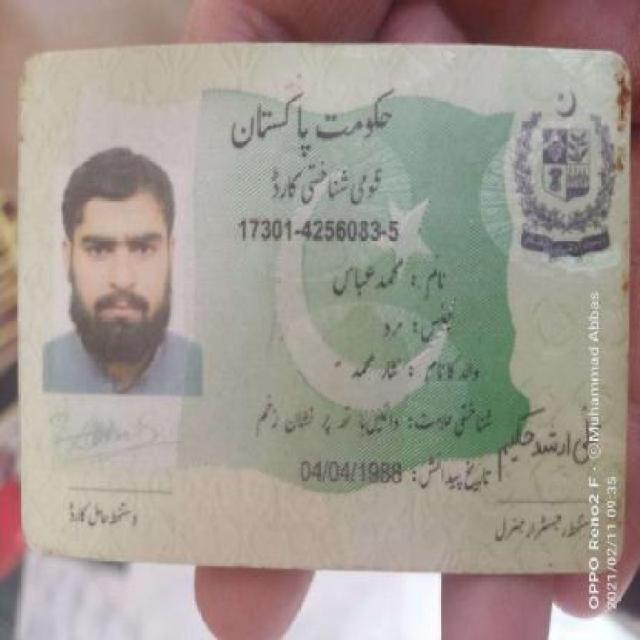Front: (12, 40, 631, 608)
